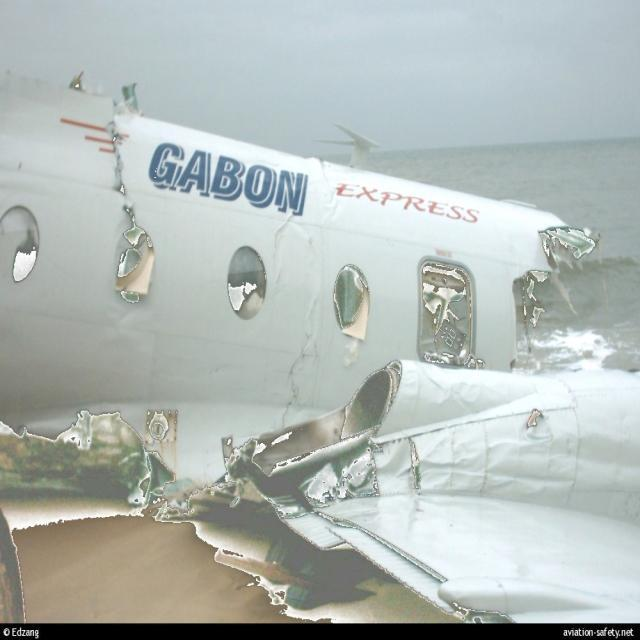crack: (279, 316, 321, 433), (106, 111, 137, 235), (273, 207, 298, 284), (405, 437, 423, 494)
